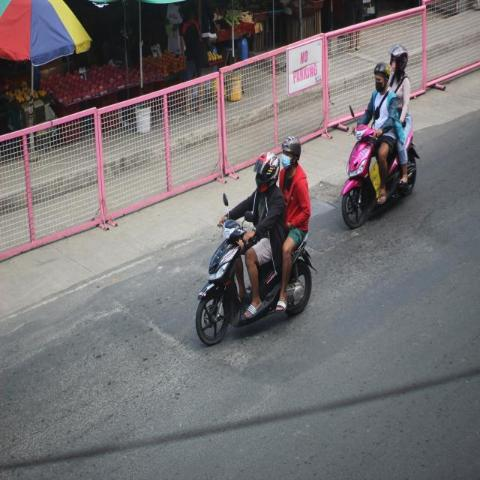motorcycle: (195, 134, 318, 346), (338, 44, 423, 237)
